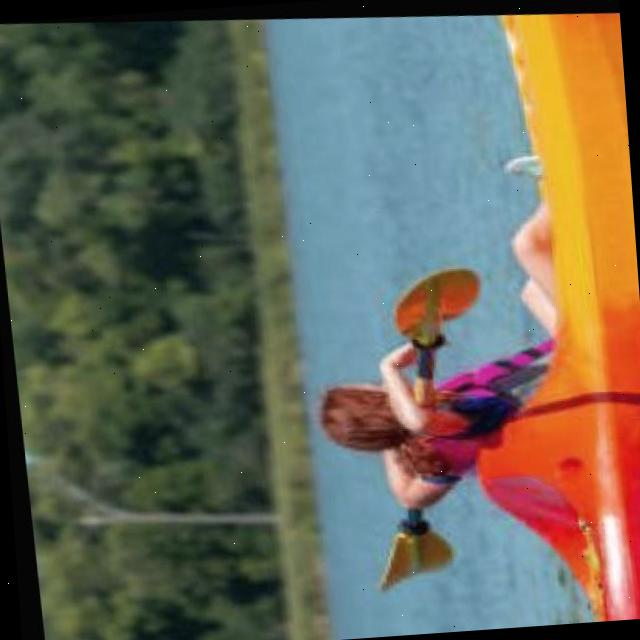kayak: (474, 4, 640, 622)
